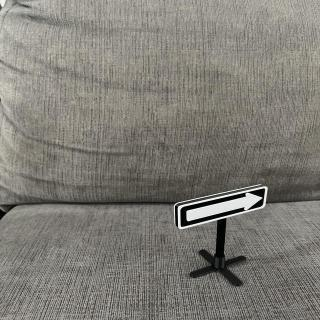sign_oneway_right: (178, 186, 270, 232)
